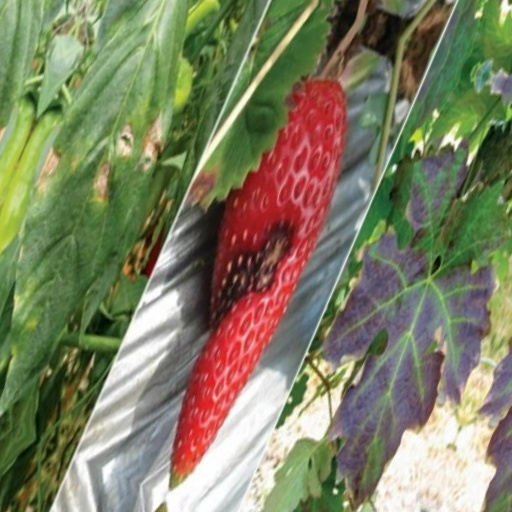Anthracnose Fruit Rot: (221, 203, 287, 343)
